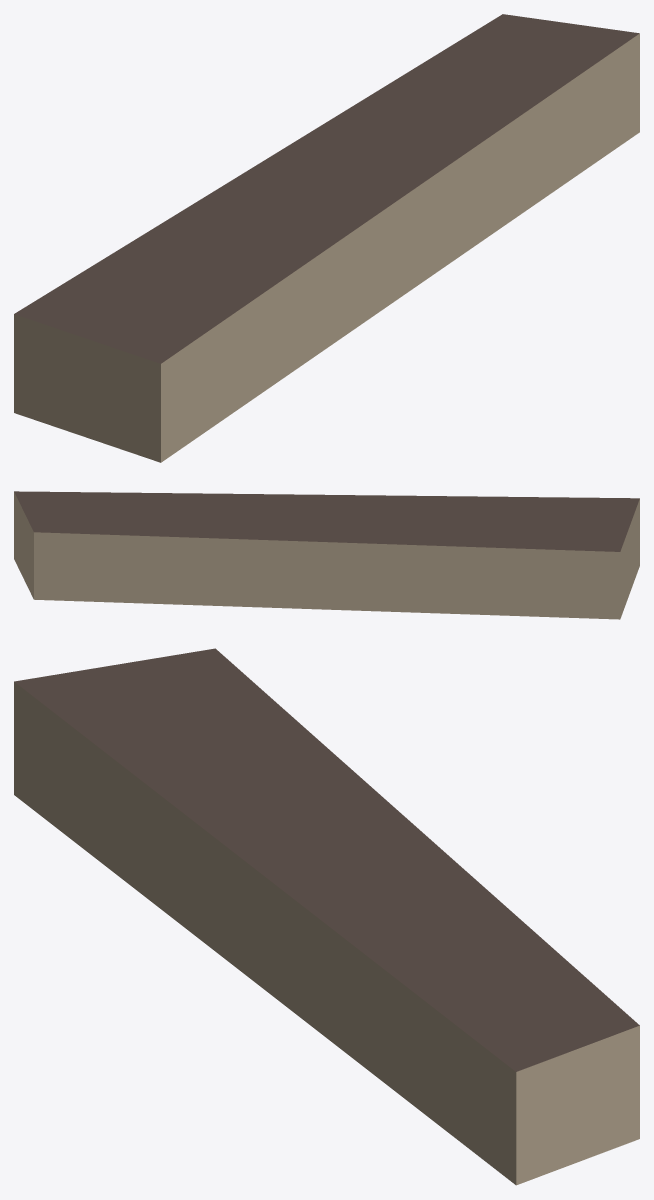
3 renders of one model, top to bottom at view 1: azimuth 30°, elevation 25°; view 2: azimuth 150°, elevation 25°; view 3: azimuth 270°, elevation 25°, orthographic. The views are drawn at different scales.
Visible parts, largest first — view 1: HP-w859447943; view 2: HP-w859447943; view 3: HP-w859447943.
Boxes of the visible parts, <box> form: HP-w859447943: <box>14,14,639,462</box>; HP-w859447943: <box>14,491,639,619</box>; HP-w859447943: <box>14,648,639,1185</box>.
Size of the model in its own units: 72.07 by 9 by 45.01.
